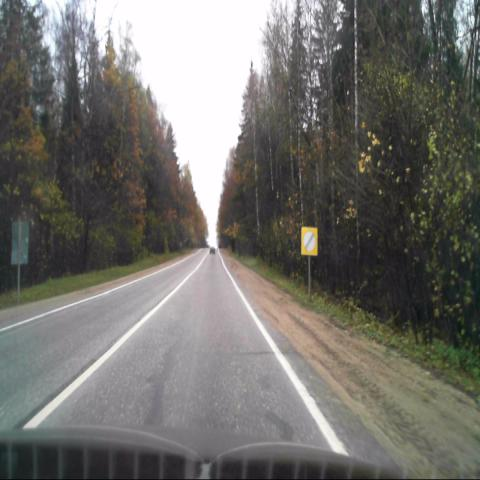3_31: (301, 227, 318, 255)
